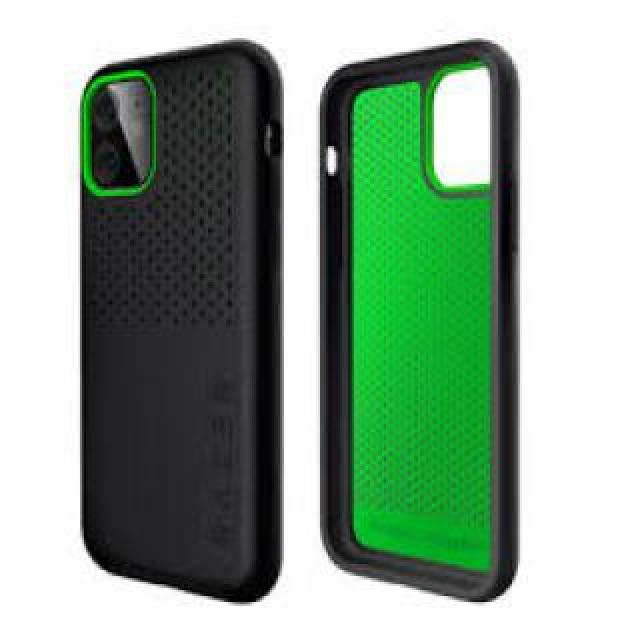smart phone: (60, 36, 322, 626)
